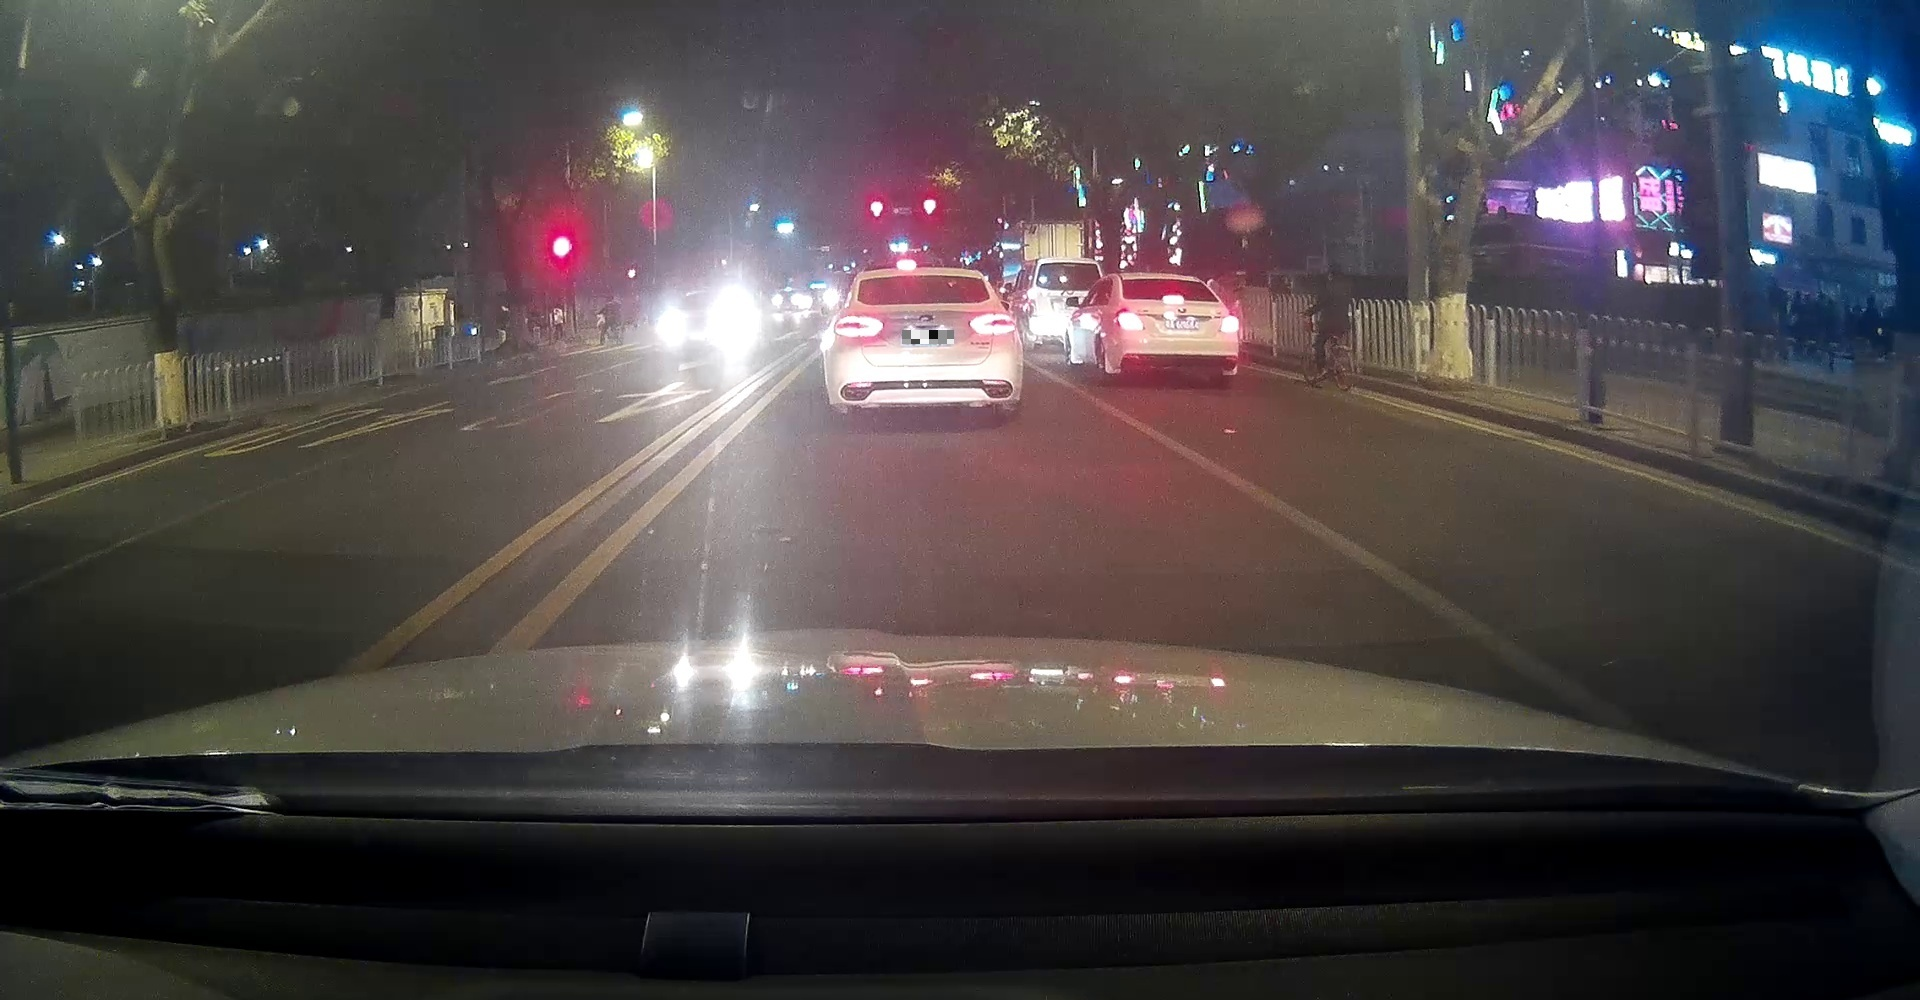L_light: (833, 315, 884, 338), (1112, 308, 1143, 330)
R_light: (969, 313, 1017, 334), (1217, 310, 1239, 332)
T_light: (1162, 294, 1185, 305), (904, 275, 931, 282)
night-brake: (1112, 273, 1239, 390)
night-no: (825, 266, 1023, 416)
plate_1: (902, 330, 954, 344)
